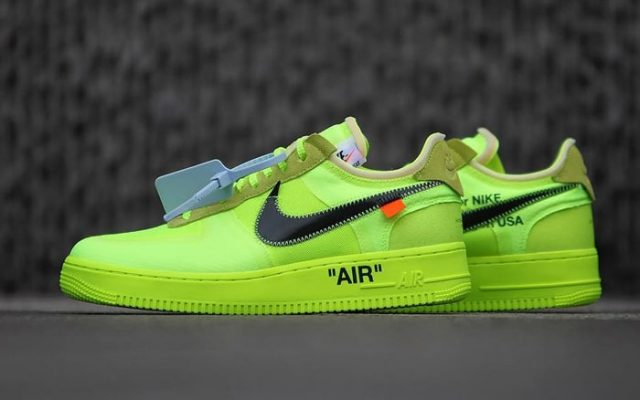Air Force One Volt: (60, 122, 473, 317)
